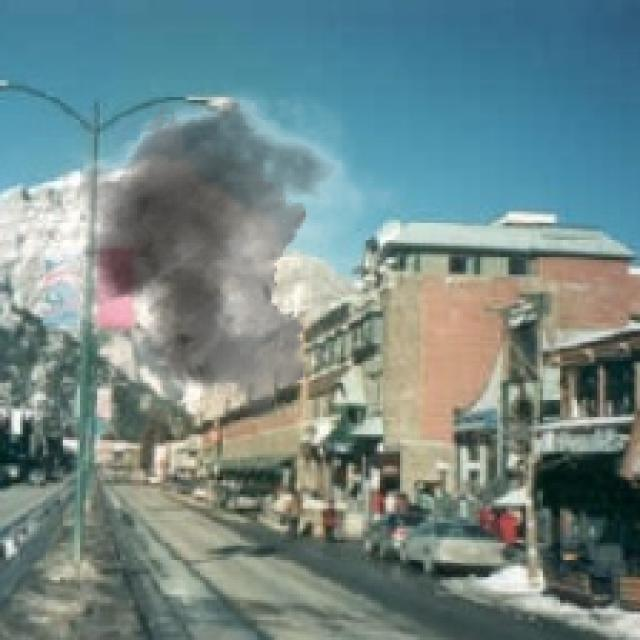Smoke: (26, 74, 408, 420)
